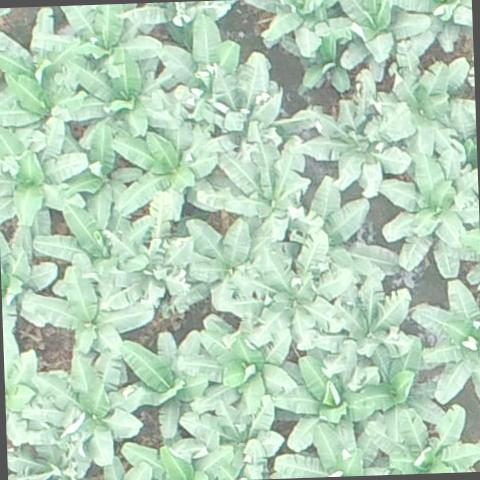Banana-plant: (29, 350, 140, 470), (199, 136, 319, 243), (378, 54, 478, 174), (182, 313, 293, 421), (242, 232, 348, 342), (388, 160, 480, 281), (308, 88, 412, 194), (61, 50, 180, 140), (31, 271, 156, 356), (320, 276, 414, 389), (108, 123, 217, 218), (276, 356, 379, 456), (0, 113, 89, 227), (0, 7, 79, 127), (36, 2, 164, 76), (194, 52, 283, 158), (34, 191, 146, 275), (106, 218, 206, 311), (315, 0, 428, 81), (172, 399, 284, 480), (352, 348, 448, 442), (126, 325, 207, 436), (188, 216, 274, 312), (365, 406, 480, 475), (63, 128, 142, 228), (420, 277, 480, 408), (276, 418, 392, 479), (0, 223, 59, 333), (3, 323, 41, 447), (393, 0, 473, 58), (257, 0, 345, 51), (286, 34, 350, 98)
